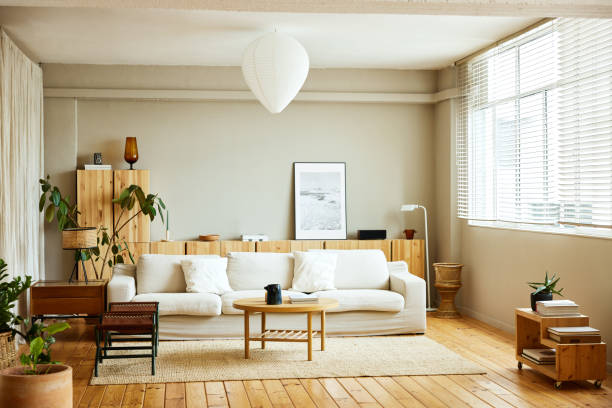chair: (94, 315, 157, 379), (107, 299, 157, 350)
floor lamp: (398, 200, 438, 313)
large plant: (33, 173, 159, 266), (5, 322, 77, 407), (0, 261, 33, 360)
small plant: (527, 268, 565, 312)
sofa: (104, 247, 429, 336)
table: (232, 295, 333, 363)
table lamp: (58, 221, 103, 284)
wall art: (290, 159, 349, 241)
